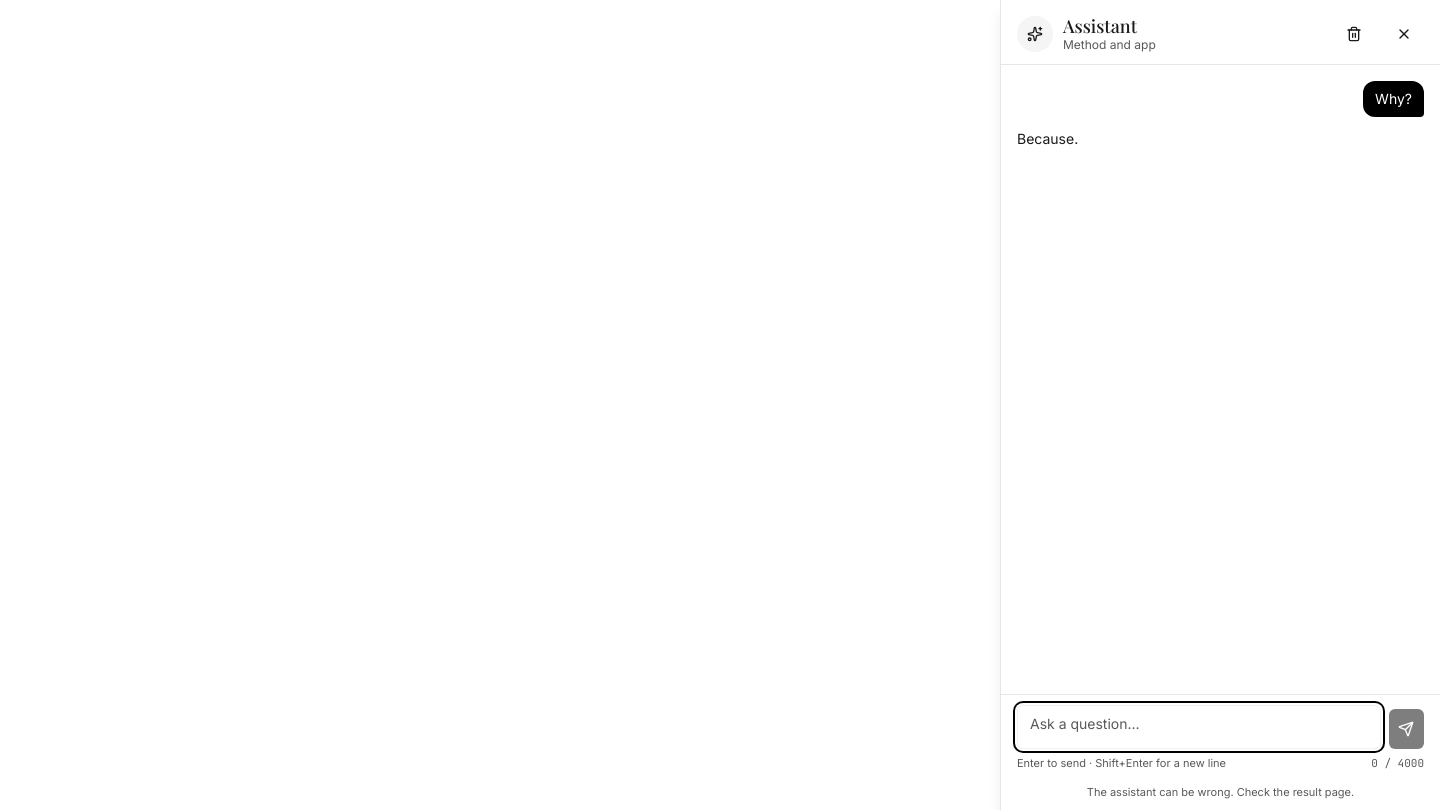
Test: AssistantPanel › clearing › backs out on Keep and returns focus to the clear button
What coordinates should you click on to do the following:
click the button named "Clear conversation"
I would click on:
 (1354, 34)
Its box is [1334,14,1374,54].
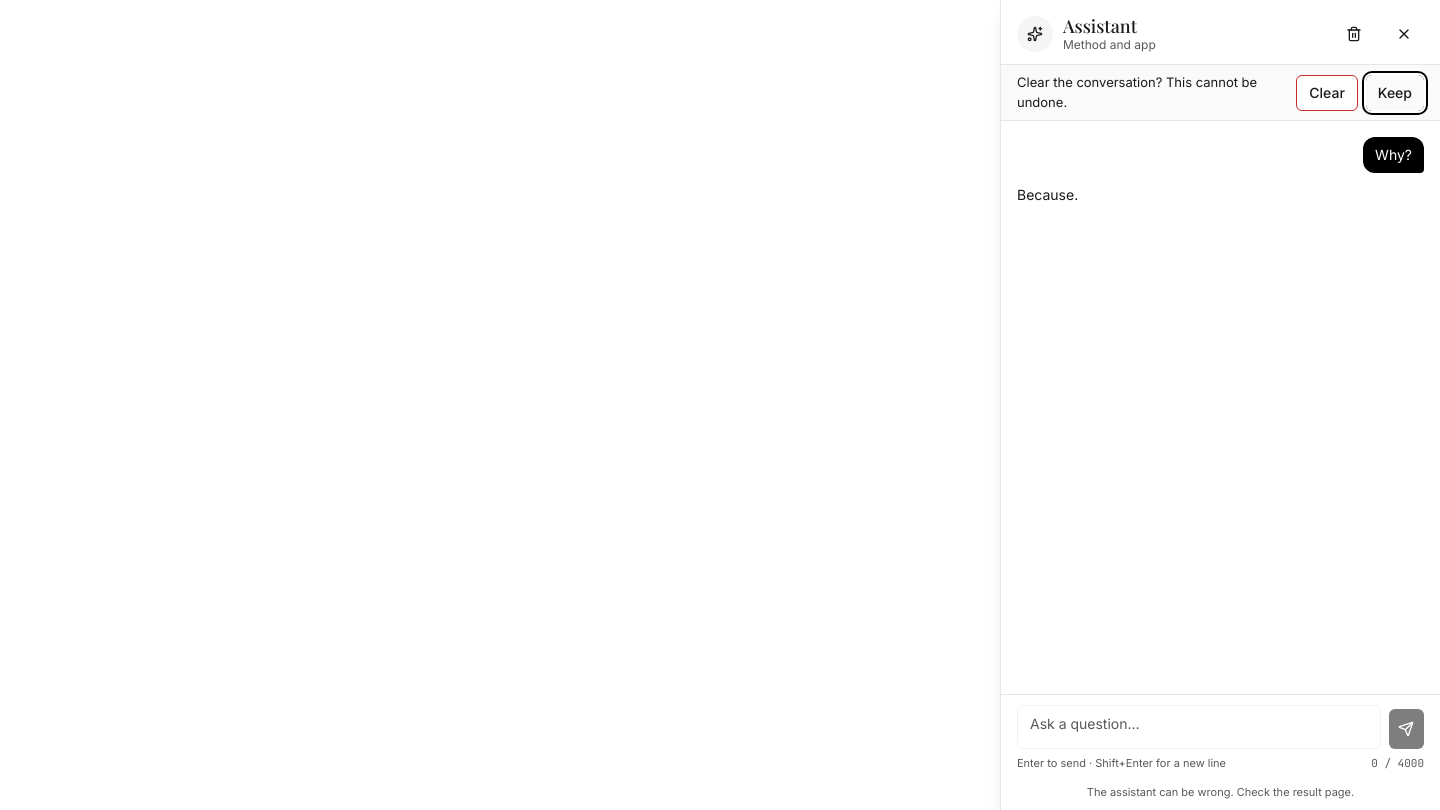
What coordinates should you click on to do the following:
click the button "Keep"
I would click on:
 (1395, 92)
Its box is [1366,74,1424,110].
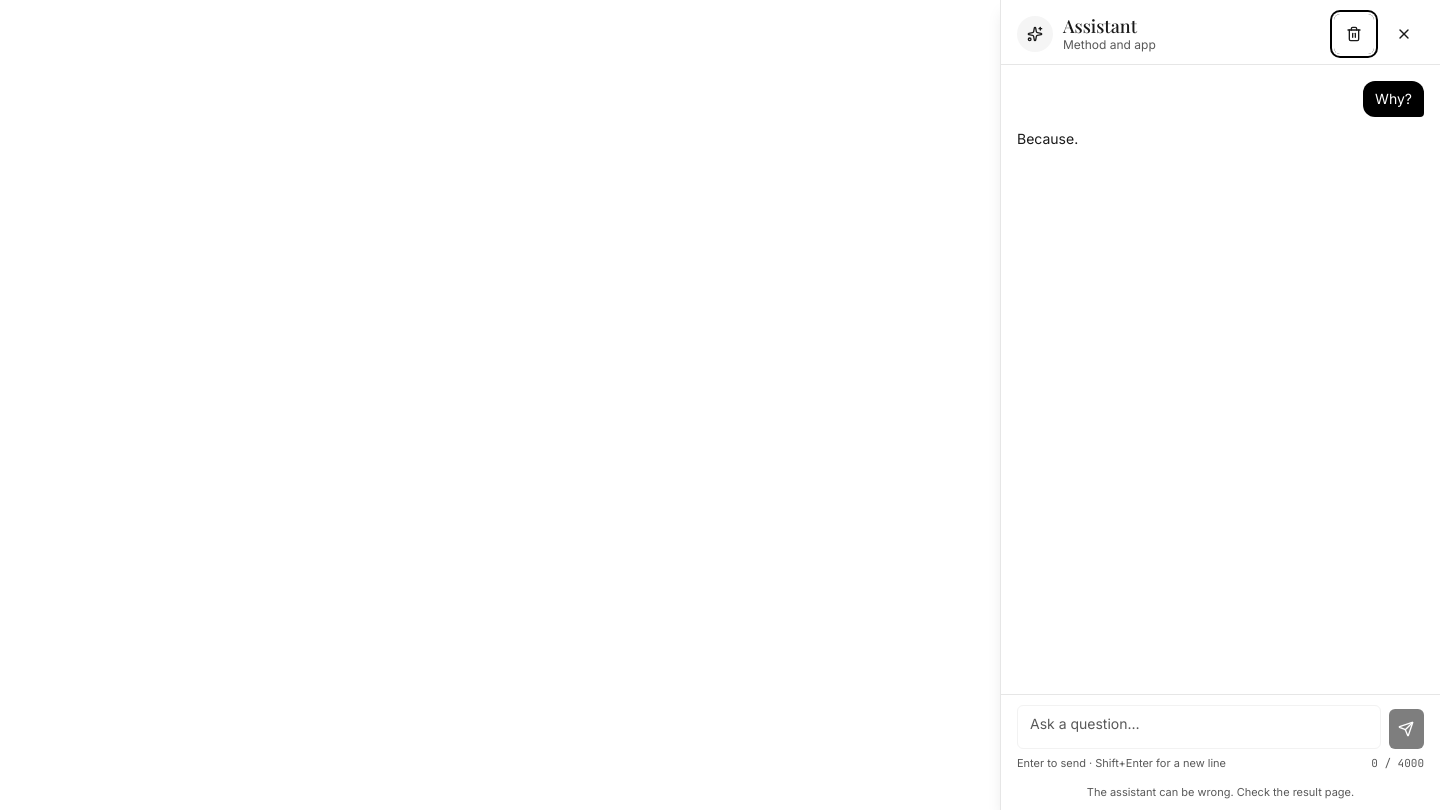
Now the button "Keep" is gone
